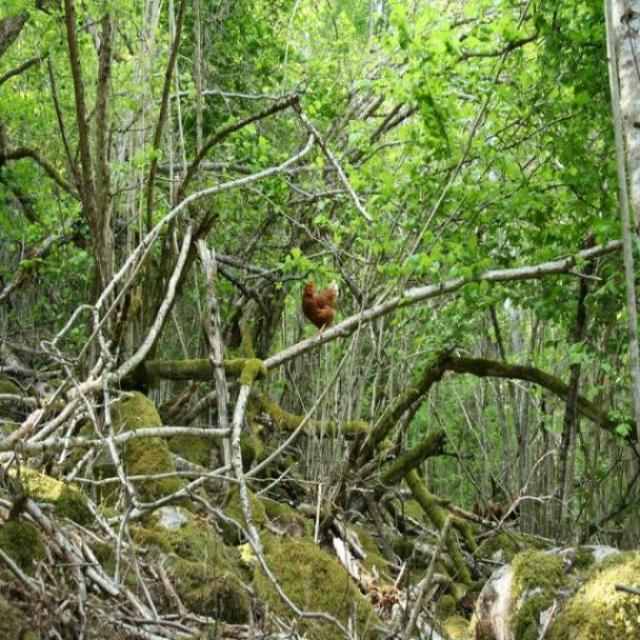Chicken: (301, 272, 340, 345)
